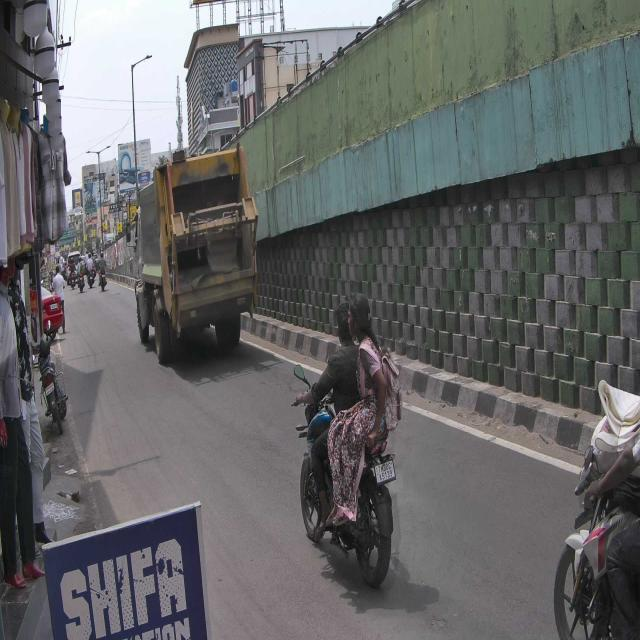double_rider: (290, 289, 402, 586)
